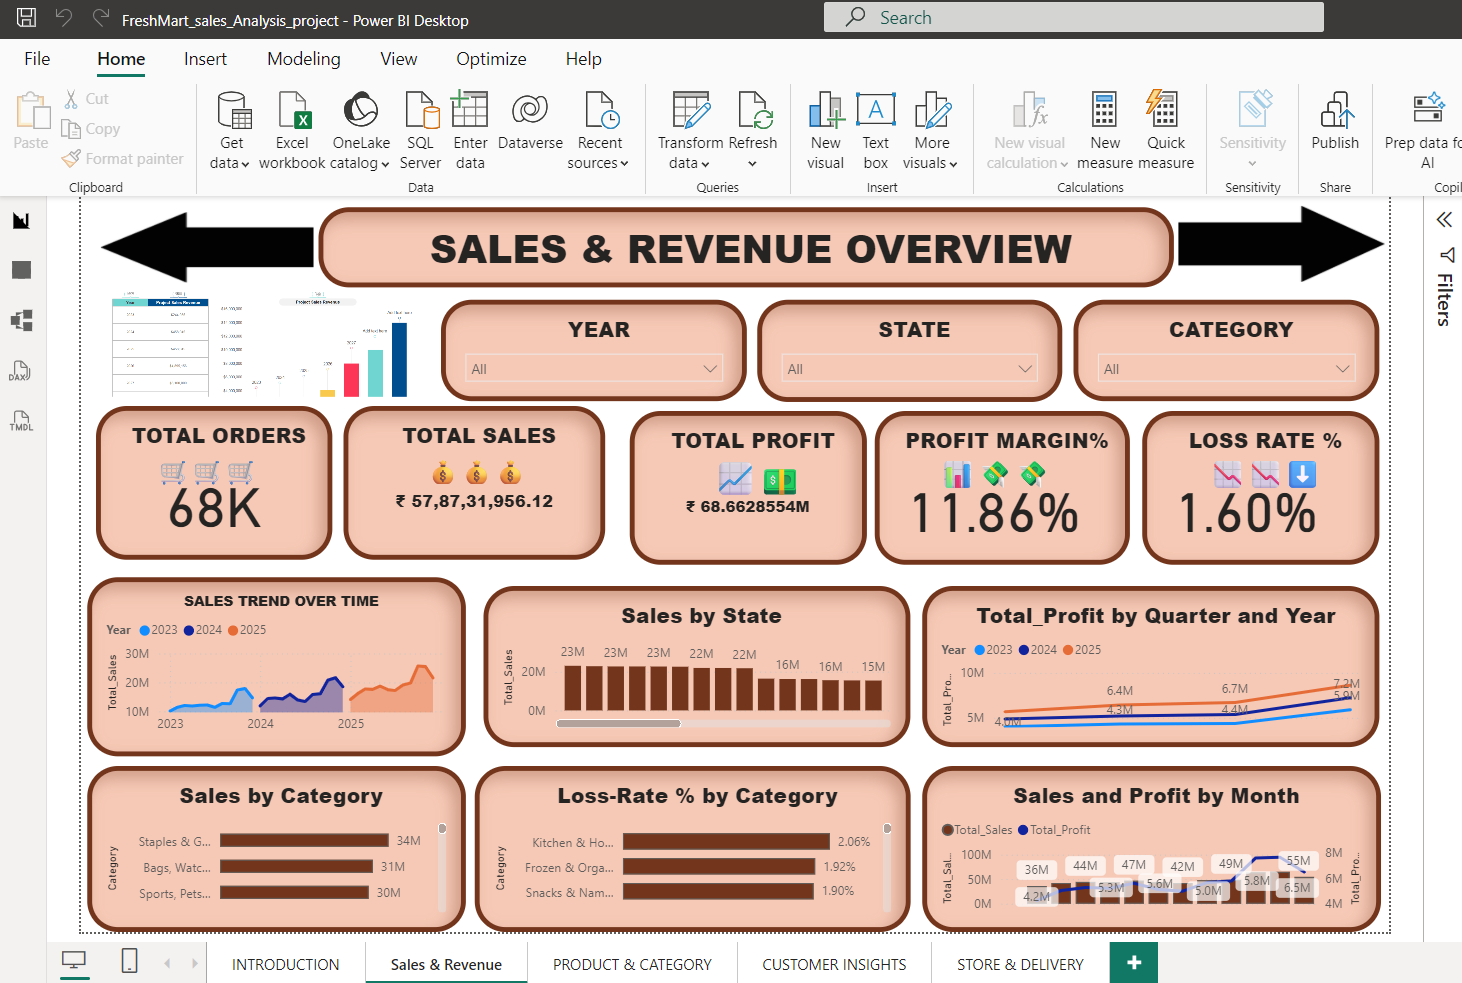

This screenshot's page, from the dashboard's own definition file:
{"tool":"powerbi","page":{"name":"Sales & Revenue","canvas":[1280,720],"ordinal":1},"visuals":[{"type":"textbox","box":[0,0,1280,64],"z":0},{"type":"image","box":[16,6,92,54],"z":1000},{"type":"textbox","box":[119.4,3.6,491,56.7],"z":2000},{"type":"actionButton","box":[640,14,120,36],"z":3000},{"type":"actionButton","box":[766,14,120,36],"z":4000},{"type":"actionButton","box":[892,14,120,36],"z":5000},{"type":"actionButton","box":[1018,14,120,36],"z":6000},{"type":"actionButton","box":[1144,14,120,36],"z":7000},{"type":"slicer","title":"YEAR","fields":{"Values":["FreshMart_Sales_Analysis.Year","FreshMart_Sales_Analysis.State"]},"box":[16,76,406,52],"z":8000},{"type":"slicer","title":"STATE","fields":{"Values":["FreshMart_Sales_Analysis.State"]},"box":[437,76,406,52],"z":9000},{"type":"slicer","title":"CATEGORY","fields":{"Values":["FreshMart_Sales_Analysis.Category"]},"box":[858,76,406,52],"z":10000},{"type":"cardVisual","title":"🧾 TOTAL ORDERS","fields":{"Data":["FreshMart_Sales_Analysis.Total_Orders"]},"box":[16,138,240,92],"z":11000},{"type":"cardVisual","title":"💰 TOTAL SALES","fields":{"Data":["FreshMart_Sales_Analysis.Total_Sales"]},"box":[268,138,240,92],"z":12000},{"type":"cardVisual","title":"📈 TOTAL PROFIT","fields":{"Data":["FreshMart_Sales_Analysis.Total_Profit"]},"box":[520,138,240,92],"z":13000},{"type":"cardVisual","title":"📊 PROFIT MARGIN %","fields":{"Data":["FreshMart_Sales_Analysis.Profit_Margin%"]},"box":[772,138,240,92],"z":14000},{"type":"cardVisual","title":"📉 LOSS RATE %","fields":{"Data":["FreshMart_Sales_Analysis.Loss-Rate %"]},"box":[1024,138,240,92],"z":15000},{"type":"lineChart","title":"SALES TREND OVER TIME","fields":{"Category":["FreshMart_Sales_Analysis.OrderDate.Variation.Date Hierarchy.Year","FreshMart_Sales_Analysis.OrderDate.Variation.Date Hierarchy.Month"],"Y":["FreshMart_Sales_Analysis.Total_Sales"],"Series":["FreshMart_Sales_Analysis.Year"]},"box":[16,242,408,228],"z":16000},{"type":"clusteredColumnChart","title":"Sales by State","fields":{"Y":["FreshMart_Sales_Analysis.Total_Sales"],"Category":["FreshMart_Sales_Analysis.State"]},"box":[436,242,408,228],"z":17000},{"type":"lineChart","title":"Profit by Quarter and Year","fields":{"Y":["FreshMart_Sales_Analysis.Total_Profit"],"Category":["FreshMart_Sales_Analysis.Quarter"],"Series":["FreshMart_Sales_Analysis.Year"]},"box":[856,242,408,228],"z":18000},{"type":"clusteredBarChart","title":"Sales by Category","fields":{"Category":["FreshMart_Sales_Analysis.Category"],"Y":["FreshMart_Sales_Analysis.Total_Sales"]},"box":[16,482,408,228],"z":19000},{"type":"clusteredBarChart","title":"Loss Rate % by Category","fields":{"Y":["FreshMart_Sales_Analysis.Loss-Rate %"],"Category":["FreshMart_Sales_Analysis.Category"]},"box":[436,482,408,228],"z":20000},{"type":"lineStackedColumnComboChart","title":"Sales and Profit by Month","fields":{"Y":["FreshMart_Sales_Analysis.Total_Sales"],"Y2":["FreshMart_Sales_Analysis.Total_Profit"],"Category":["FreshMart_Sales_Analysis.Month"]},"box":[856,482,408,228],"z":21000}]}

Visuals, with their boxes on the page's 1280x720 design canvas (x1, y1, x2, y2). These are canvas units, not pixel positions in the 1462x983 screenshot, which may show the page scaled, cropped or inside an application window:
textbox: x1=0, y1=0, x2=1280, y2=64
image: x1=16, y1=6, x2=108, y2=60
textbox: x1=119, y1=4, x2=610, y2=60
actionButton: x1=640, y1=14, x2=760, y2=50
actionButton: x1=766, y1=14, x2=886, y2=50
actionButton: x1=892, y1=14, x2=1012, y2=50
actionButton: x1=1018, y1=14, x2=1138, y2=50
actionButton: x1=1144, y1=14, x2=1264, y2=50
"YEAR" slicer: x1=16, y1=76, x2=422, y2=128
"STATE" slicer: x1=437, y1=76, x2=843, y2=128
"CATEGORY" slicer: x1=858, y1=76, x2=1264, y2=128
"🧾 TOTAL ORDERS" cardVisual: x1=16, y1=138, x2=256, y2=230
"💰 TOTAL SALES" cardVisual: x1=268, y1=138, x2=508, y2=230
"📈 TOTAL PROFIT" cardVisual: x1=520, y1=138, x2=760, y2=230
"📊 PROFIT MARGIN %" cardVisual: x1=772, y1=138, x2=1012, y2=230
"📉 LOSS RATE %" cardVisual: x1=1024, y1=138, x2=1264, y2=230
"SALES TREND OVER TIME" lineChart: x1=16, y1=242, x2=424, y2=470
"Sales by State" clusteredColumnChart: x1=436, y1=242, x2=844, y2=470
"Profit by Quarter and Year" lineChart: x1=856, y1=242, x2=1264, y2=470
"Sales by Category" clusteredBarChart: x1=16, y1=482, x2=424, y2=710
"Loss Rate % by Category" clusteredBarChart: x1=436, y1=482, x2=844, y2=710
"Sales and Profit by Month" lineStackedColumnComboChart: x1=856, y1=482, x2=1264, y2=710
